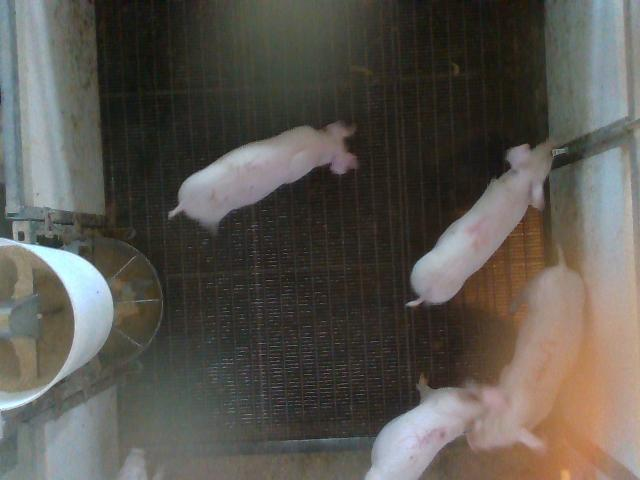pig-3: (468, 250, 585, 449)
pig-4: (406, 140, 555, 306)
pig-5: (366, 375, 484, 478)
